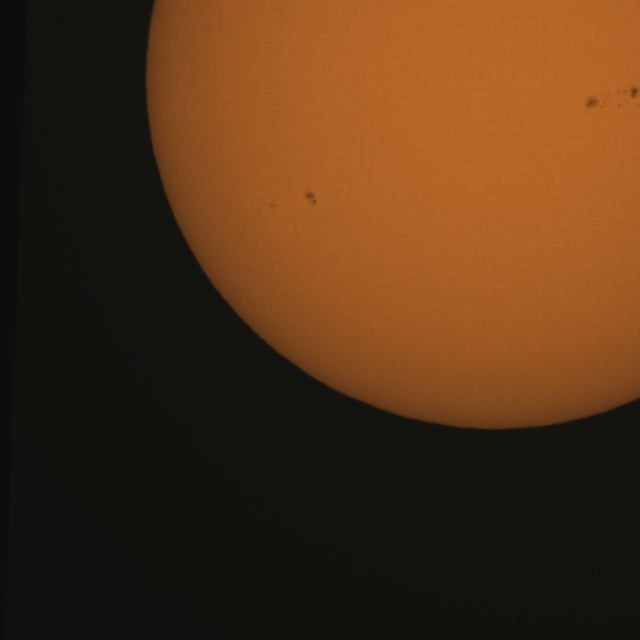sunspot: (580, 85, 640, 110), (614, 86, 638, 109), (584, 90, 610, 111), (304, 187, 318, 207), (258, 200, 280, 211)
